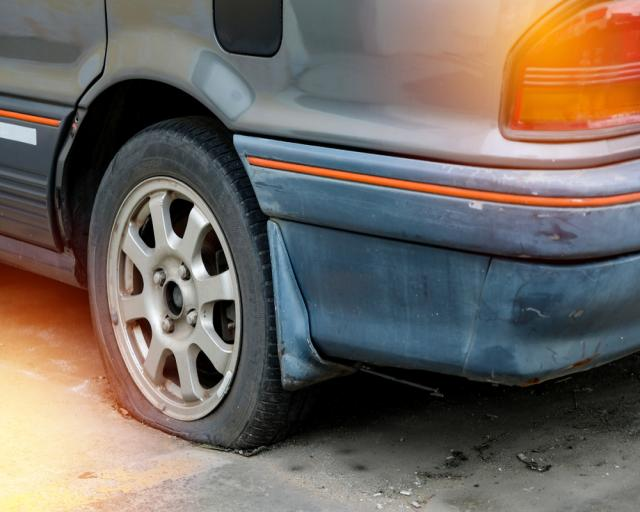tire flat: (88, 111, 281, 451)
